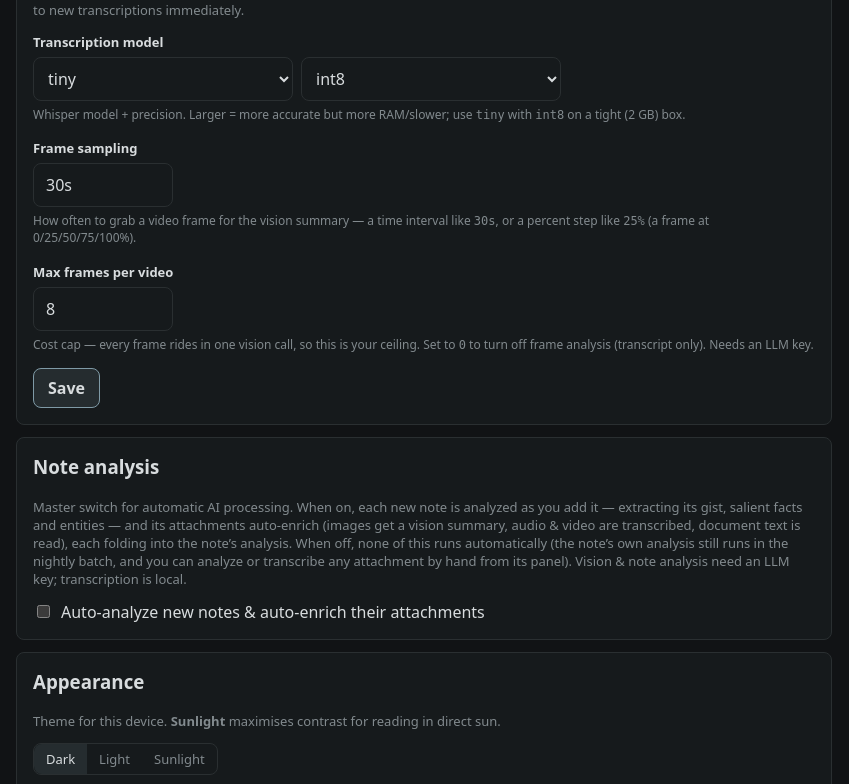
SystemPage › surfaces an error message when saving media settings fails
This screenshot has width=849, height=784.
(page scrolled)
Click the button "Save": (66, 388) [33,368,100,408]
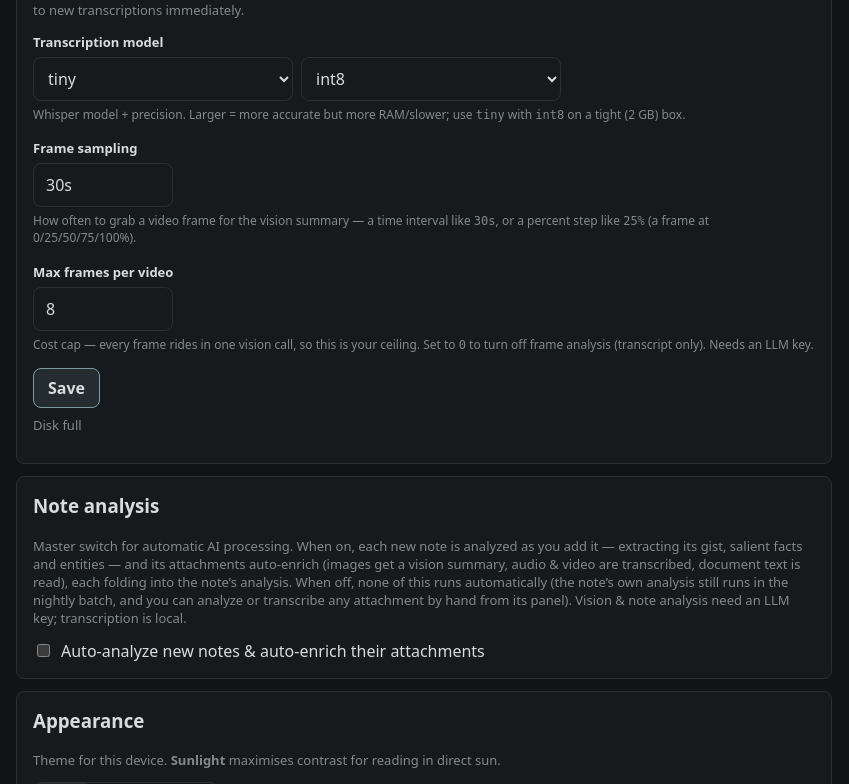
Expected: the text "Disk full" is shown, [33,416,82,434]
